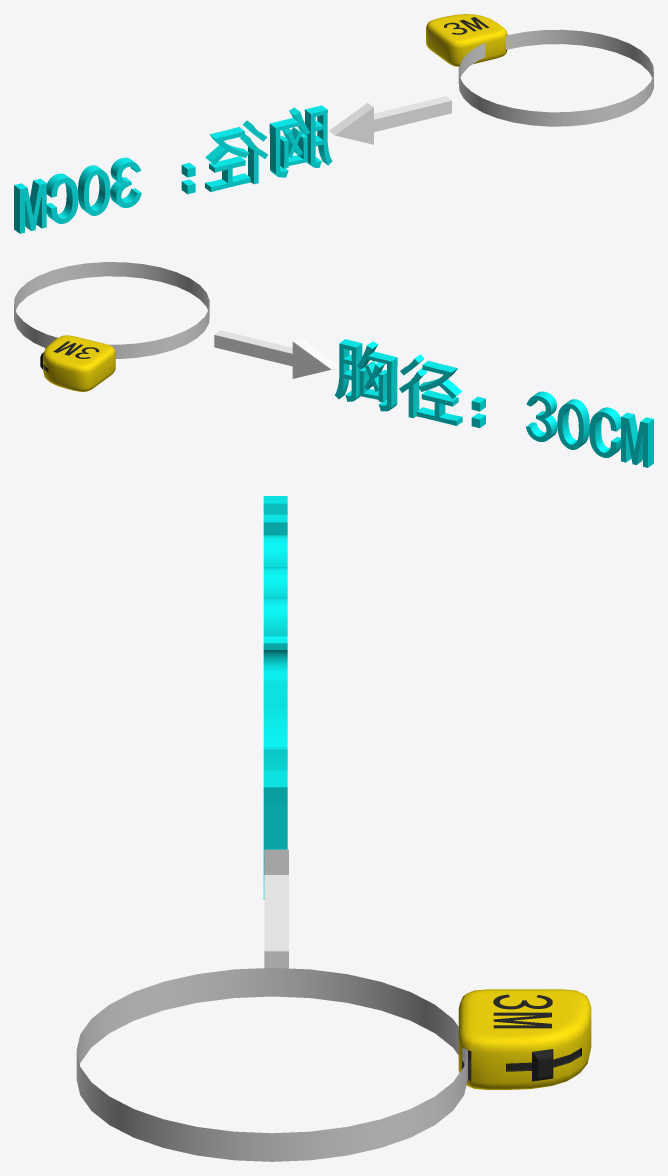
3 views of the same model, one above another, from view 1: azimuth 30°, elevation 25°; view 2: azimuth 150°, elevation 25°; view 3: azimuth 270°, elevation 25° (orthographic). The views are drawn at different scales.
Parts seen in each view (by area): view 1: 30cm, JC_02_C, JC_02_M; view 2: 30cm, JC_02_C, JC_02_M; view 3: JC_02_C, JC_02_M, 30cm.
Part boxes in pixels (left/top/right/bottom): 30cm: left=14, top=96, right=451, bottom=233; JC_02_C: left=458, top=29, right=653, bottom=126; JC_02_M: left=426, top=14, right=507, bottom=66; 30cm: left=214, top=330, right=653, bottom=467; JC_02_C: left=14, top=262, right=209, bottom=358; JC_02_M: left=40, top=335, right=115, bottom=391; JC_02_C: left=76, top=968, right=467, bottom=1161; JC_02_M: left=458, top=989, right=591, bottom=1089; 30cm: left=263, top=496, right=288, bottom=968.
Size of what is drawn, in the model's own units: 29.86 by 2.85 by 10.69.
